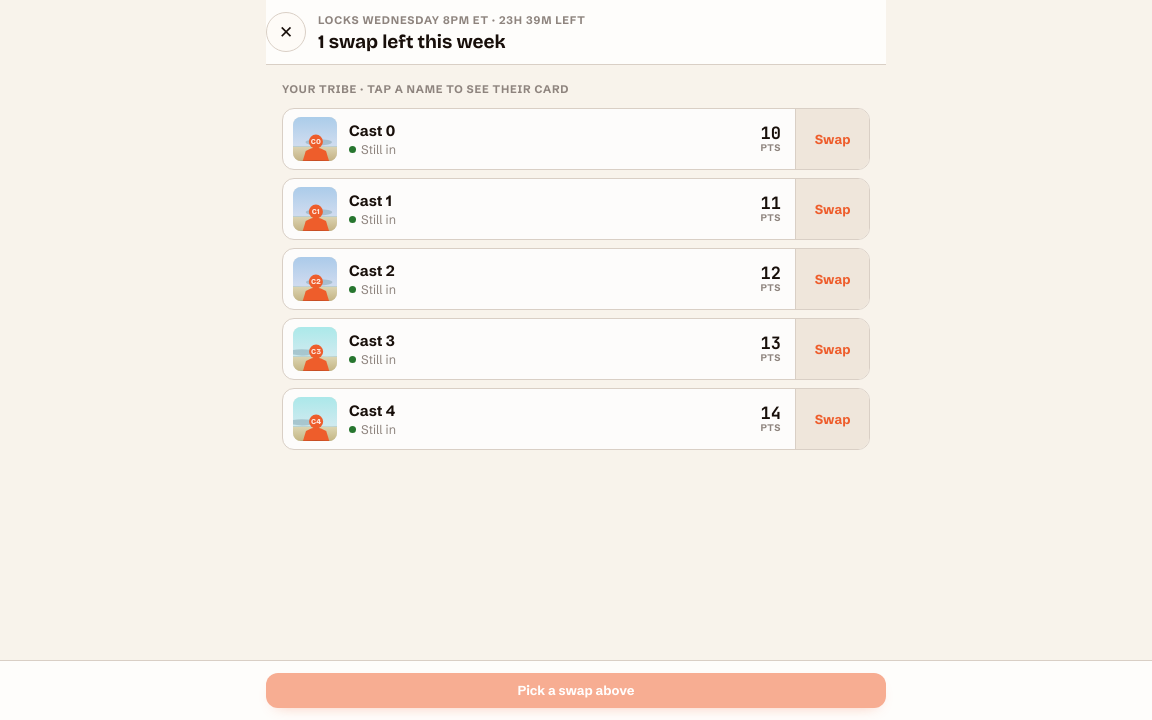
it: SwapSheet › post-merge: staging one swap locks the rest of the tribe
Click the 1st button "Swap" at (832, 139), box [795,109,869,169]
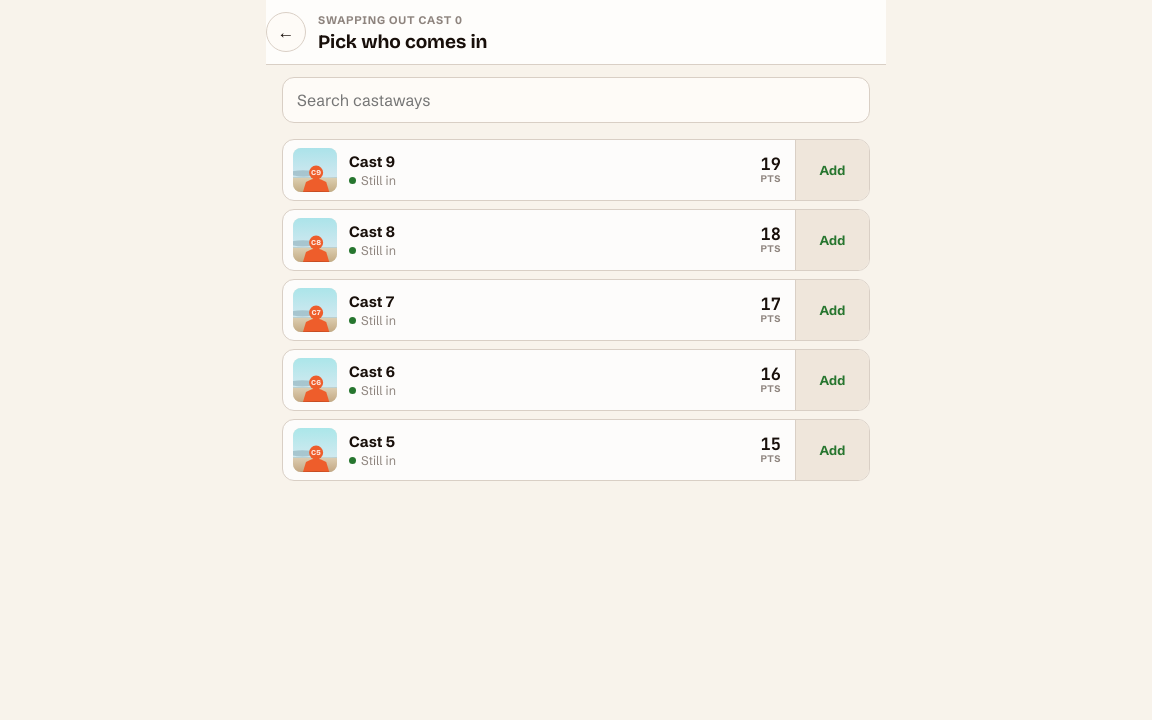
Click the 1st button "Add" at (832, 170), box [795,140,869,200]
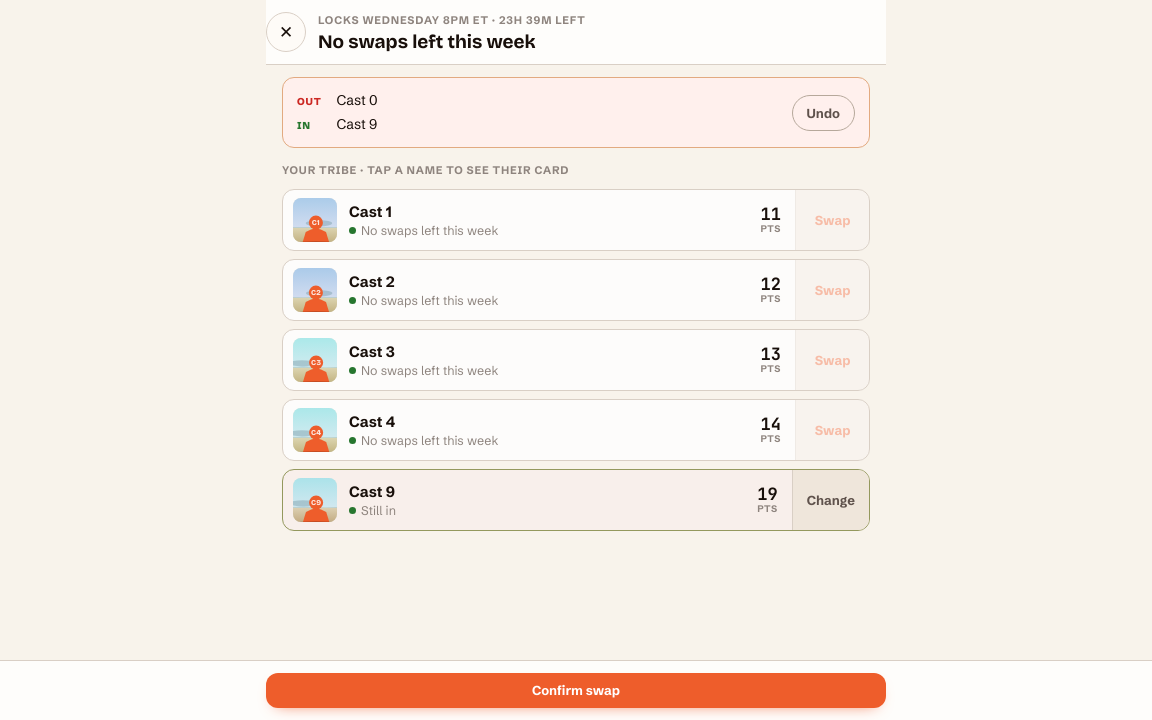
Check: the 1st button "Swap" is disabled, box [795,190,869,250]
